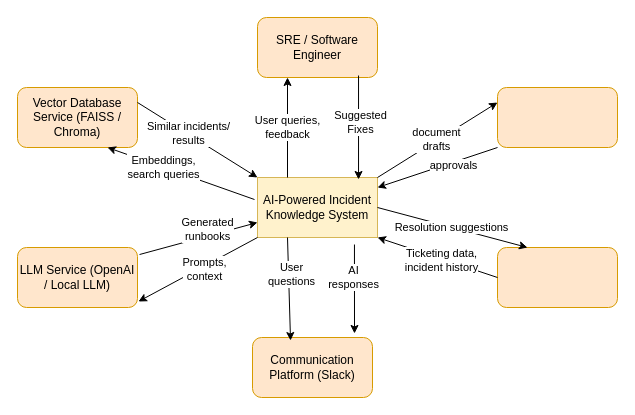
Some shapes in this 635 by 415 pixel diagram are drawn without their labels. Each missing label, with the box of its shape:
Incident Manager / Team Lead: (496, 86, 618, 148)
Ticketing System (Jira): (496, 246, 618, 308)
